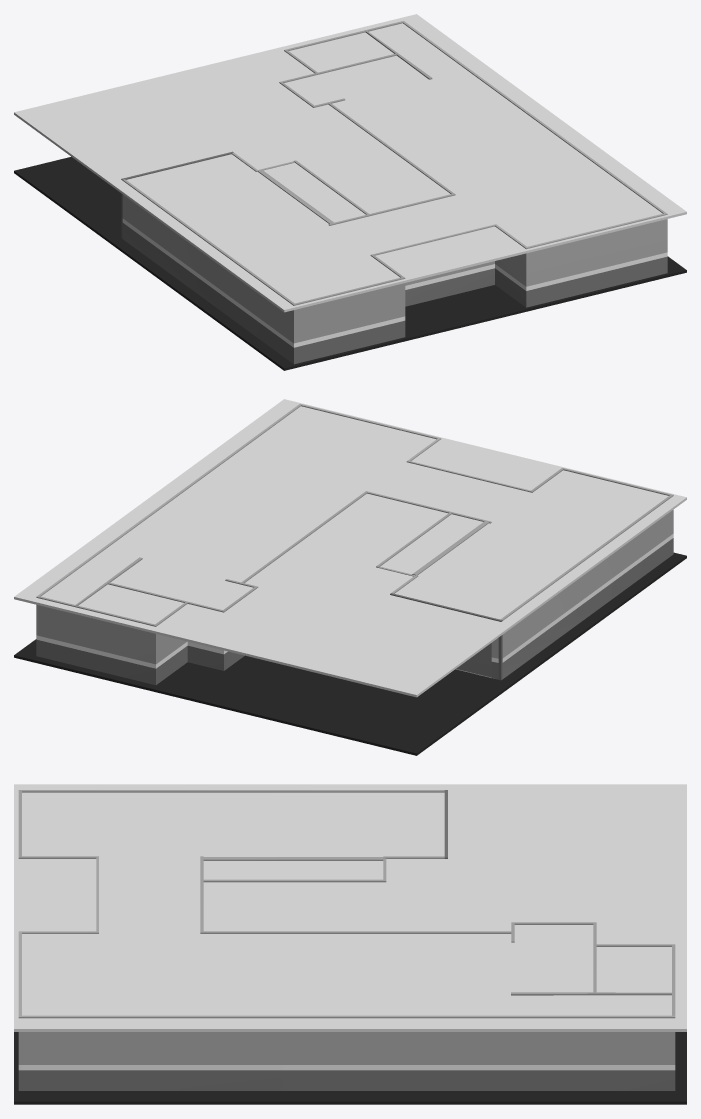
File: KonzertHalle .fbx
The picture shows the model from 3 angles, top to bottom: view 1: azimuth 30°, elevation 25°; view 2: azimuth 150°, elevation 25°; view 3: azimuth 270°, elevation 25°; orthographic projection. The views are drawn at different scales.
Visible parts, largest first — view 1: floor.002, floor.001, Cube.016, Cube.011, Cube.008, Cube.013, Cube.001, Cube.009; view 2: floor.002, floor.001, Cube.016, Cube.006, Cube.018, Cube.007, Cube.009, Cube.002; view 3: floor.002, Cube.009, floor.001, Cube.016, Cube.010, Cube.020, Cube.022, Cube.004, Cube.011.
Boxes of the visible parts, x1=… form: floor.002: x1=14, y1=14, x2=686, y2=312; floor.001: x1=14, y1=156, x2=686, y2=370; Cube.016: x1=122, y1=179, x2=294, y2=363; Cube.011: x1=527, y1=213, x2=667, y2=306; Cube.008: x1=292, y1=277, x2=402, y2=364; Cube.013: x1=373, y1=224, x2=494, y2=306; Cube.001: x1=494, y1=224, x2=528, y2=307; Cube.009: x1=402, y1=21, x2=665, y2=213; floor.002: x1=14, y1=399, x2=686, y2=697; floor.001: x1=14, y1=552, x2=686, y2=755; Cube.016: x1=500, y1=495, x2=672, y2=678; Cube.006: x1=38, y1=596, x2=157, y2=685; Cube.018: x1=390, y1=593, x2=502, y2=680; Cube.007: x1=155, y1=602, x2=187, y2=683; Cube.009: x1=36, y1=405, x2=300, y2=656; Cube.002: x1=108, y1=582, x2=225, y2=670; floor.002: x1=14, y1=784, x2=686, y2=1031; Cube.009: x1=22, y1=1015, x2=675, y2=1090; floor.001: x1=14, y1=1032, x2=686, y2=1104; Cube.016: x1=22, y1=790, x2=444, y2=792; Cube.010: x1=200, y1=931, x2=511, y2=933; Cube.020: x1=203, y1=879, x2=386, y2=882; Cube.022: x1=203, y1=857, x2=383, y2=860; Cube.004: x1=511, y1=992, x2=671, y2=995; Cube.011: x1=18, y1=932, x2=21, y2=1090.
Bounding box in the file's own units: 35179 × 5335 × 40878.
Materials: 4 (4 with a texture image).
